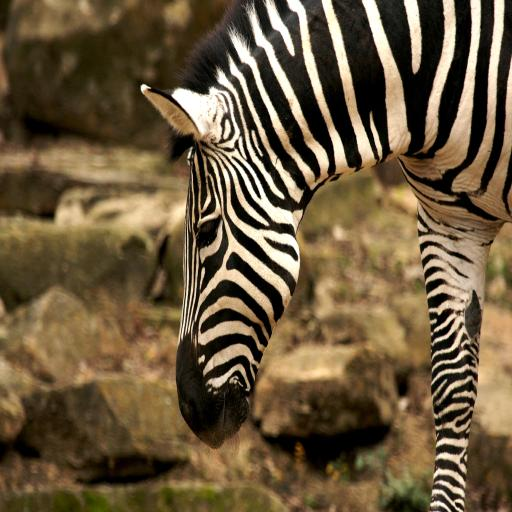Zebra: (138, 0, 512, 512)
